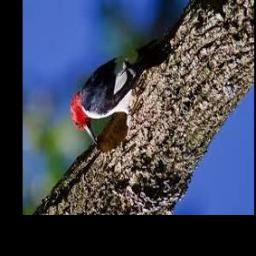Woodpecker: (71, 31, 171, 144)
